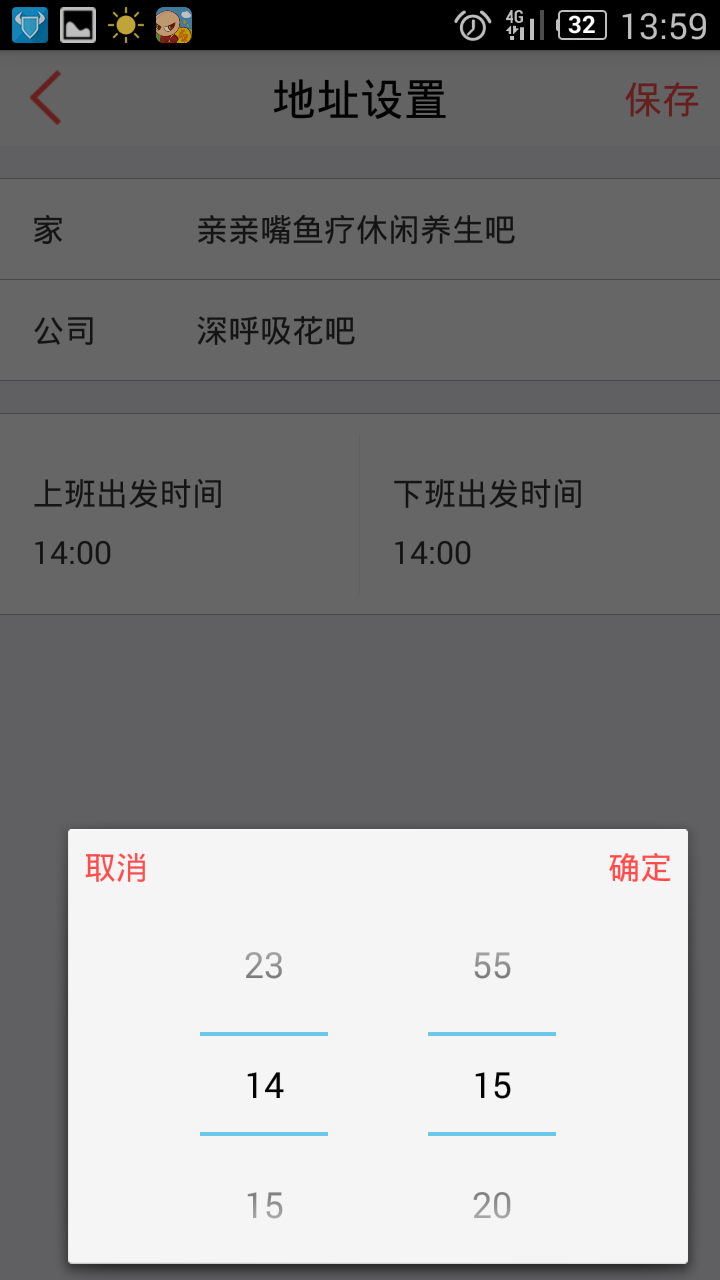alert: (62, 817, 695, 1271)
button: (81, 848, 156, 891), (601, 849, 675, 890)
